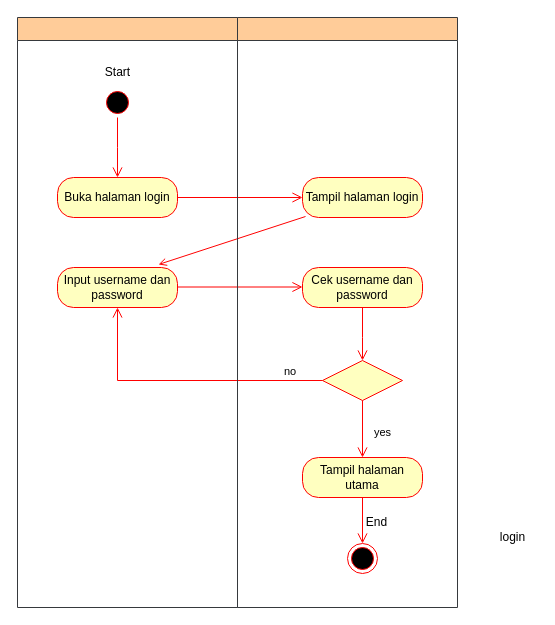
Image size: 555x625. Some labels were removed from this diagram. The box of each missing label's shape, as (x1, y1, x2, y2) in pixels:
Pemilik, Pegawai, Pelanggan: (16, 16, 238, 608)
Sistem: (236, 16, 458, 608)
